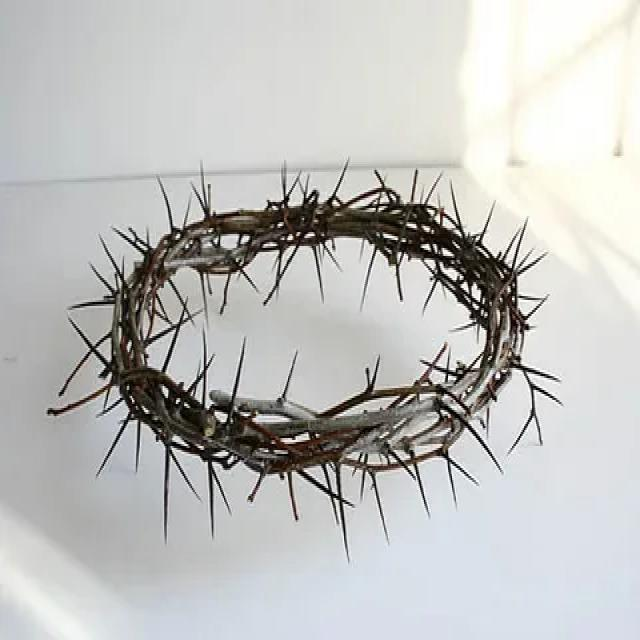crown: (89, 158, 558, 496)
